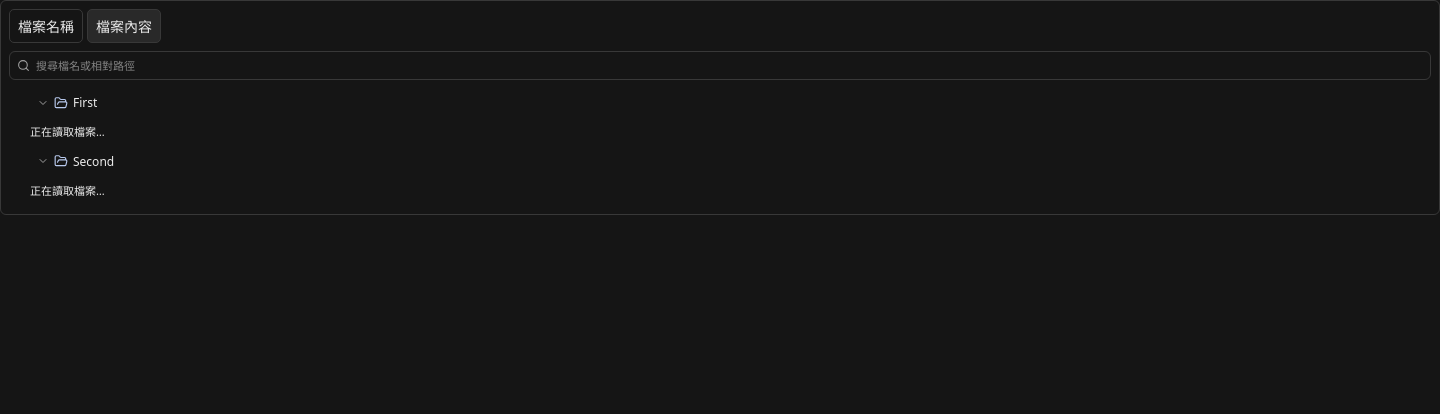
Test: project content search lifecycle › shows partial limits and diagnostics without claiming an incomplete empty search has no matches
Step 1. Click the button "檔案內容" → [124, 26], box left=87, top=9, right=161, bottom=43
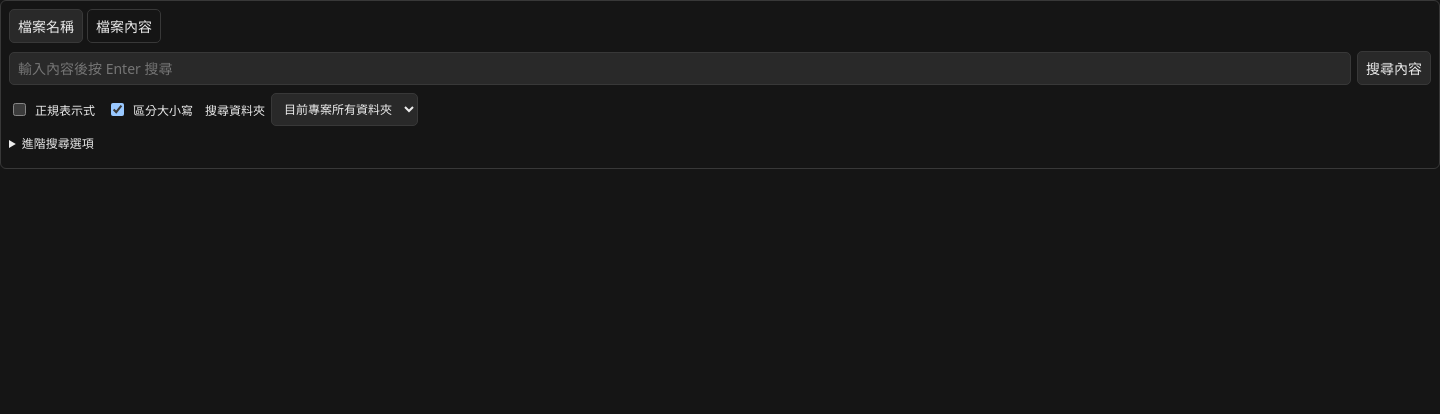
Step 2. Type "needle" into the field named "搜尋專案檔案內容" → [680, 68], box left=9, top=52, right=1351, bottom=84
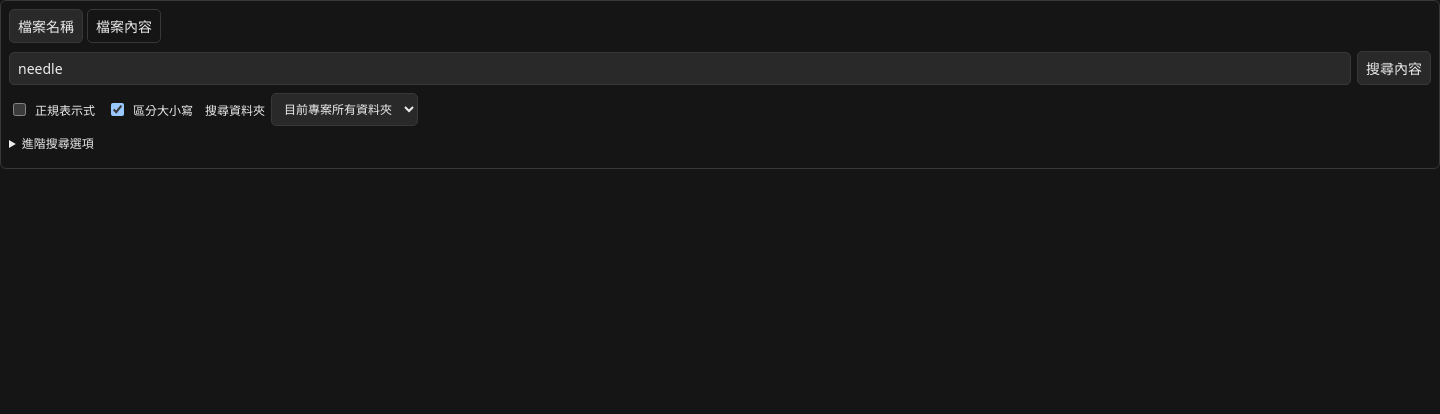
Step 3. Submit the form named "搜尋檔案內容", box left=9, top=51, right=1431, bottom=152
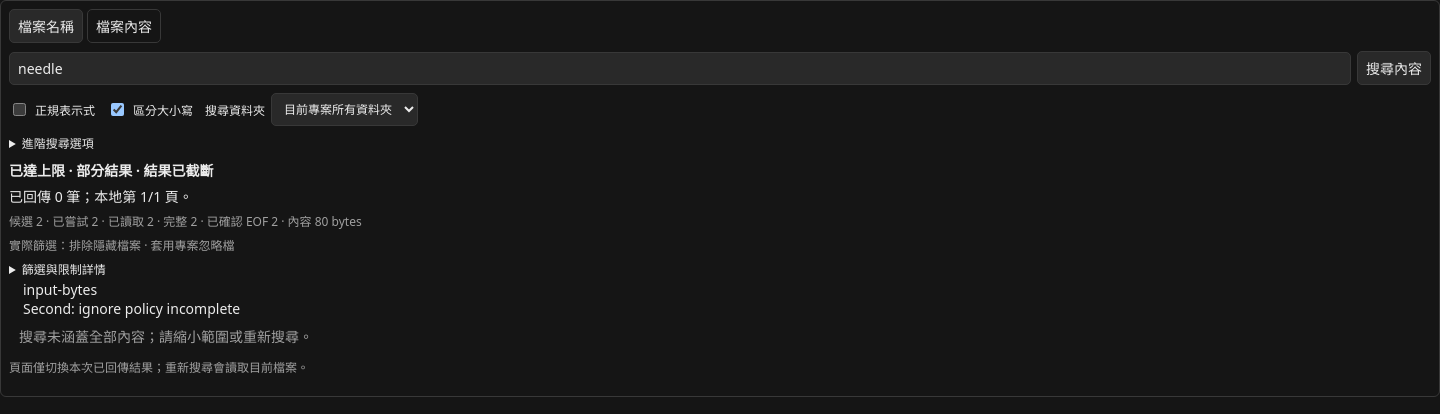
Result: the message named "搜尋結果摘要" shows "已達上限" at left=9, top=161, right=65, bottom=180
Result: the list item "input-bytes" is shown at left=23, top=280, right=97, bottom=299
Result: the list item "Second: ignore policy incomplete" is shown at left=23, top=299, right=240, bottom=318
